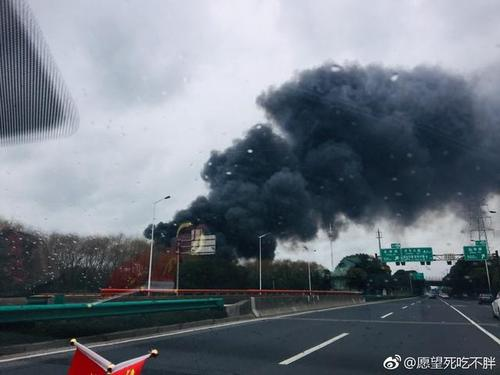smoke: (170, 62, 500, 245)
